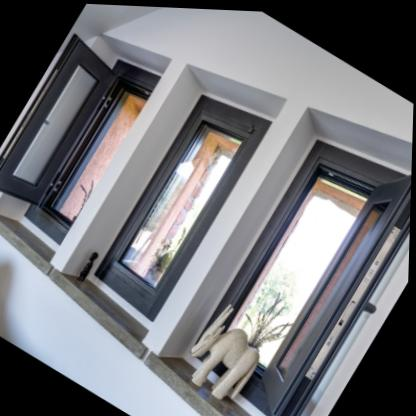Window: (191, 136, 412, 416), (94, 94, 271, 324), (22, 55, 163, 246)
